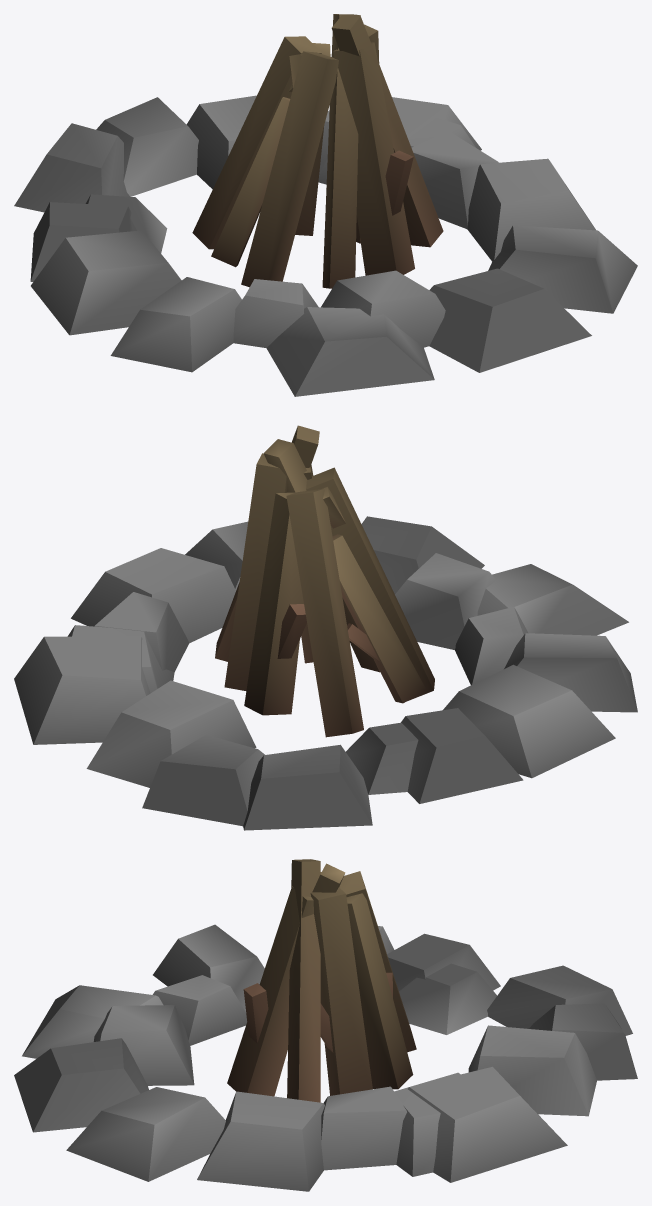
The model's file is GEO_Campfire.glb.
The picture shows the model from 3 angles, top to bottom: view 1: azimuth 30°, elevation 25°; view 2: azimuth 150°, elevation 25°; view 3: azimuth 270°, elevation 25°; orthographic projection. The views are drawn at different scales.
Parts seen in each view (by area): view 1: GEO.Campfire; view 2: GEO.Campfire; view 3: GEO.Campfire.
Boxes of the visible parts, x1,y1,x2,y2 form: GEO.Campfire: [14, 14, 637, 396]; GEO.Campfire: [14, 425, 637, 830]; GEO.Campfire: [14, 859, 637, 1191].
Size of the model in its own units: 1.09 by 0.494 by 1.19.
